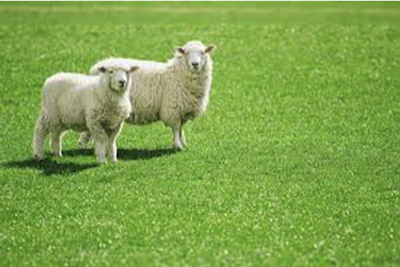koyun: (36, 65, 142, 165), (153, 38, 218, 152)
